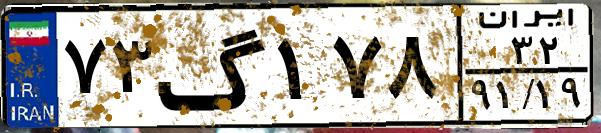1: (270, 28, 330, 110), (495, 70, 520, 125), (535, 70, 560, 125)
2: (537, 27, 568, 80)
3: (110, 28, 156, 98), (508, 27, 537, 80)
7: (330, 28, 385, 110), (57, 26, 110, 100)
8: (385, 28, 445, 110)
9: (560, 70, 590, 125), (470, 70, 495, 125)
گ: (156, 12, 270, 120)
